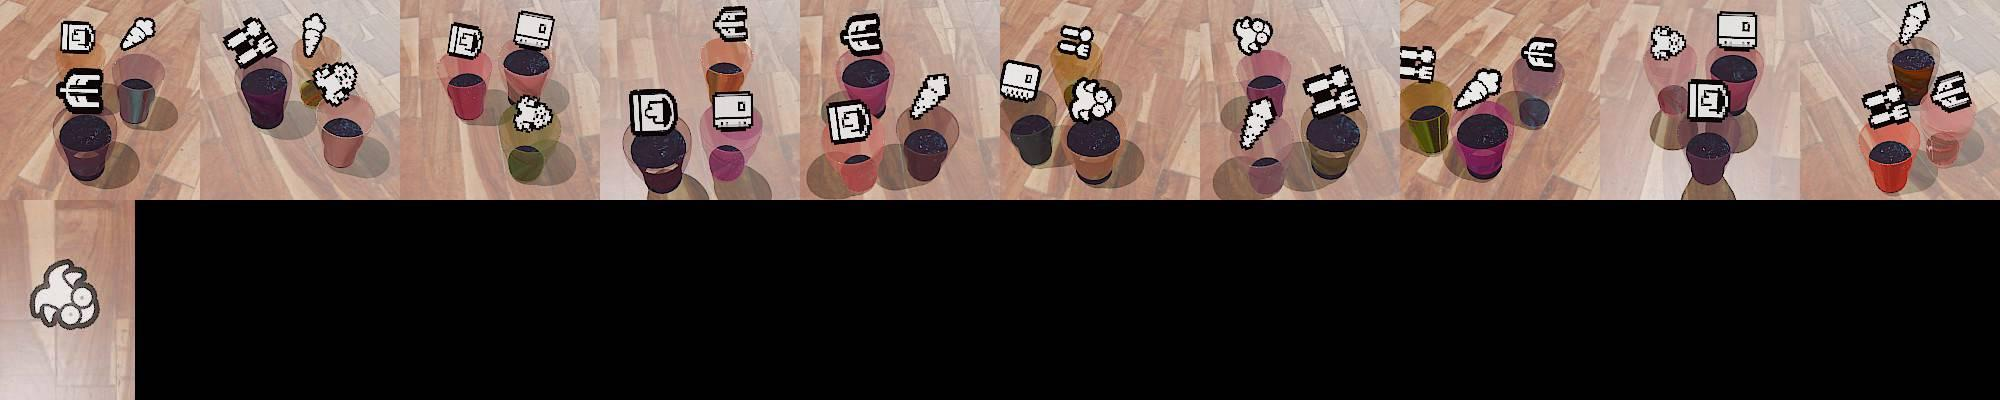icon: (27, 255, 102, 332), (1301, 62, 1358, 120), (222, 14, 279, 70), (628, 88, 677, 136), (1065, 76, 1116, 122), (1861, 83, 1912, 129), (56, 68, 105, 115), (825, 99, 874, 145), (1454, 66, 1504, 111), (310, 61, 356, 107), (1239, 94, 1277, 149), (909, 71, 952, 121), (999, 59, 1042, 103), (839, 11, 883, 56), (1687, 78, 1732, 121), (710, 89, 756, 131), (1930, 69, 1973, 112), (513, 10, 556, 52), (1716, 11, 1759, 52), (1232, 15, 1272, 56), (511, 93, 554, 131), (1056, 22, 1094, 61), (1898, 1, 1930, 47), (1399, 45, 1436, 84), (712, 5, 749, 45), (1648, 24, 1685, 62), (446, 22, 483, 60), (1520, 36, 1559, 73), (59, 20, 97, 56), (298, 13, 327, 57), (120, 17, 156, 51)
